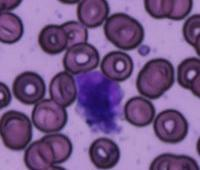D: (74, 70, 125, 136)
